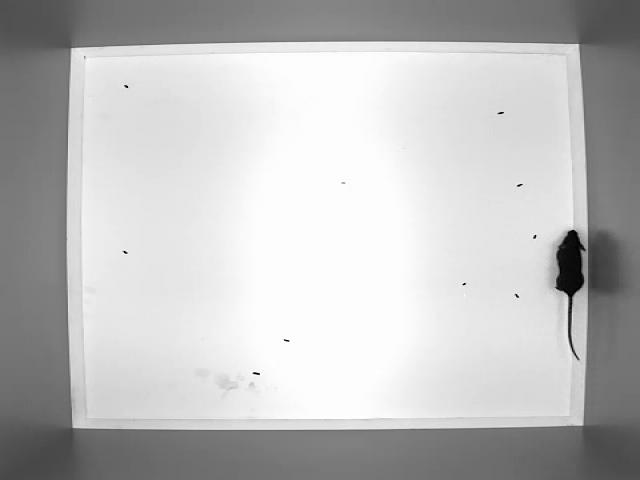Tikus: (554, 227, 583, 363)
